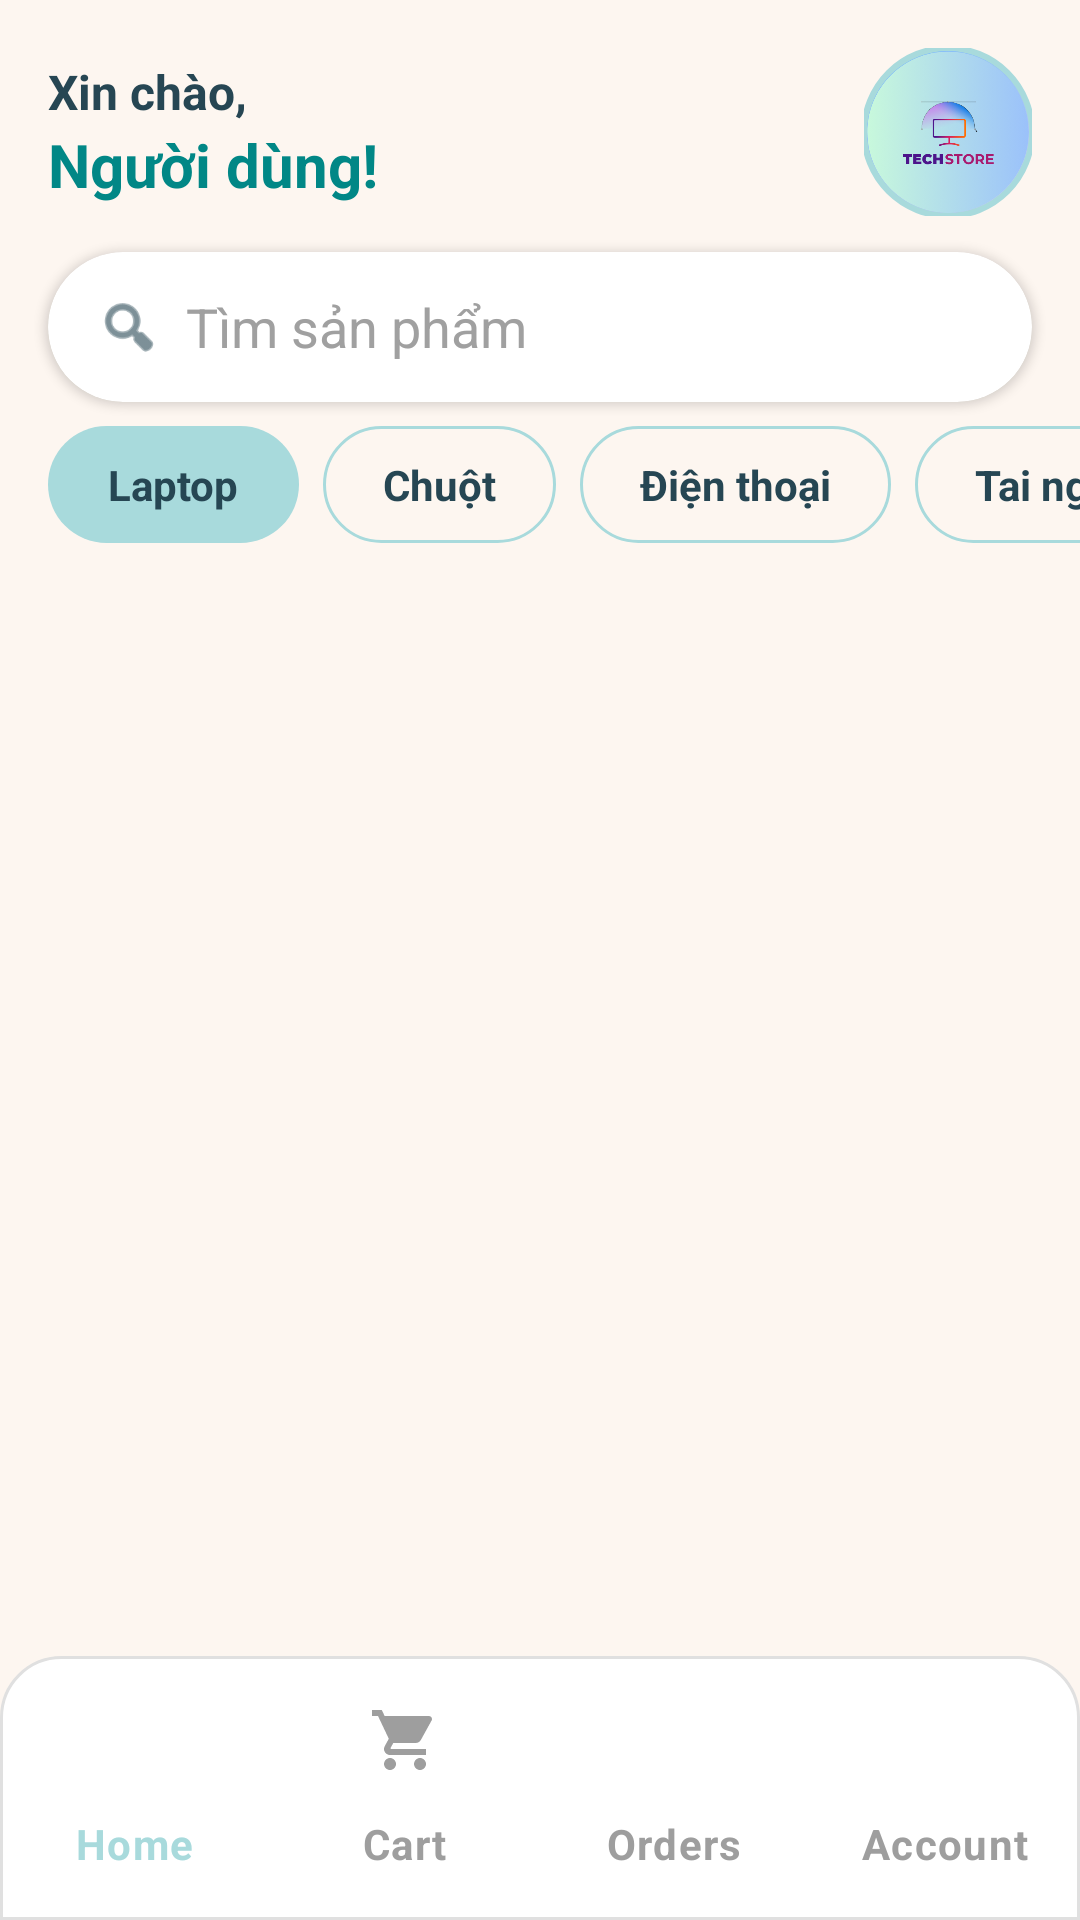

Screen size 1080w x 1920h. Icon name, then its box in pixels as (x1, y1, x2, y2):
Biểu tượng tìm kiếm: (105, 303, 153, 352)
